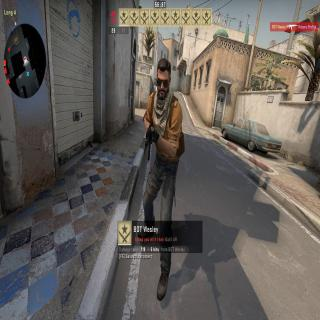T-Body: (138, 54, 186, 300)
T-Head: (156, 58, 171, 101)
